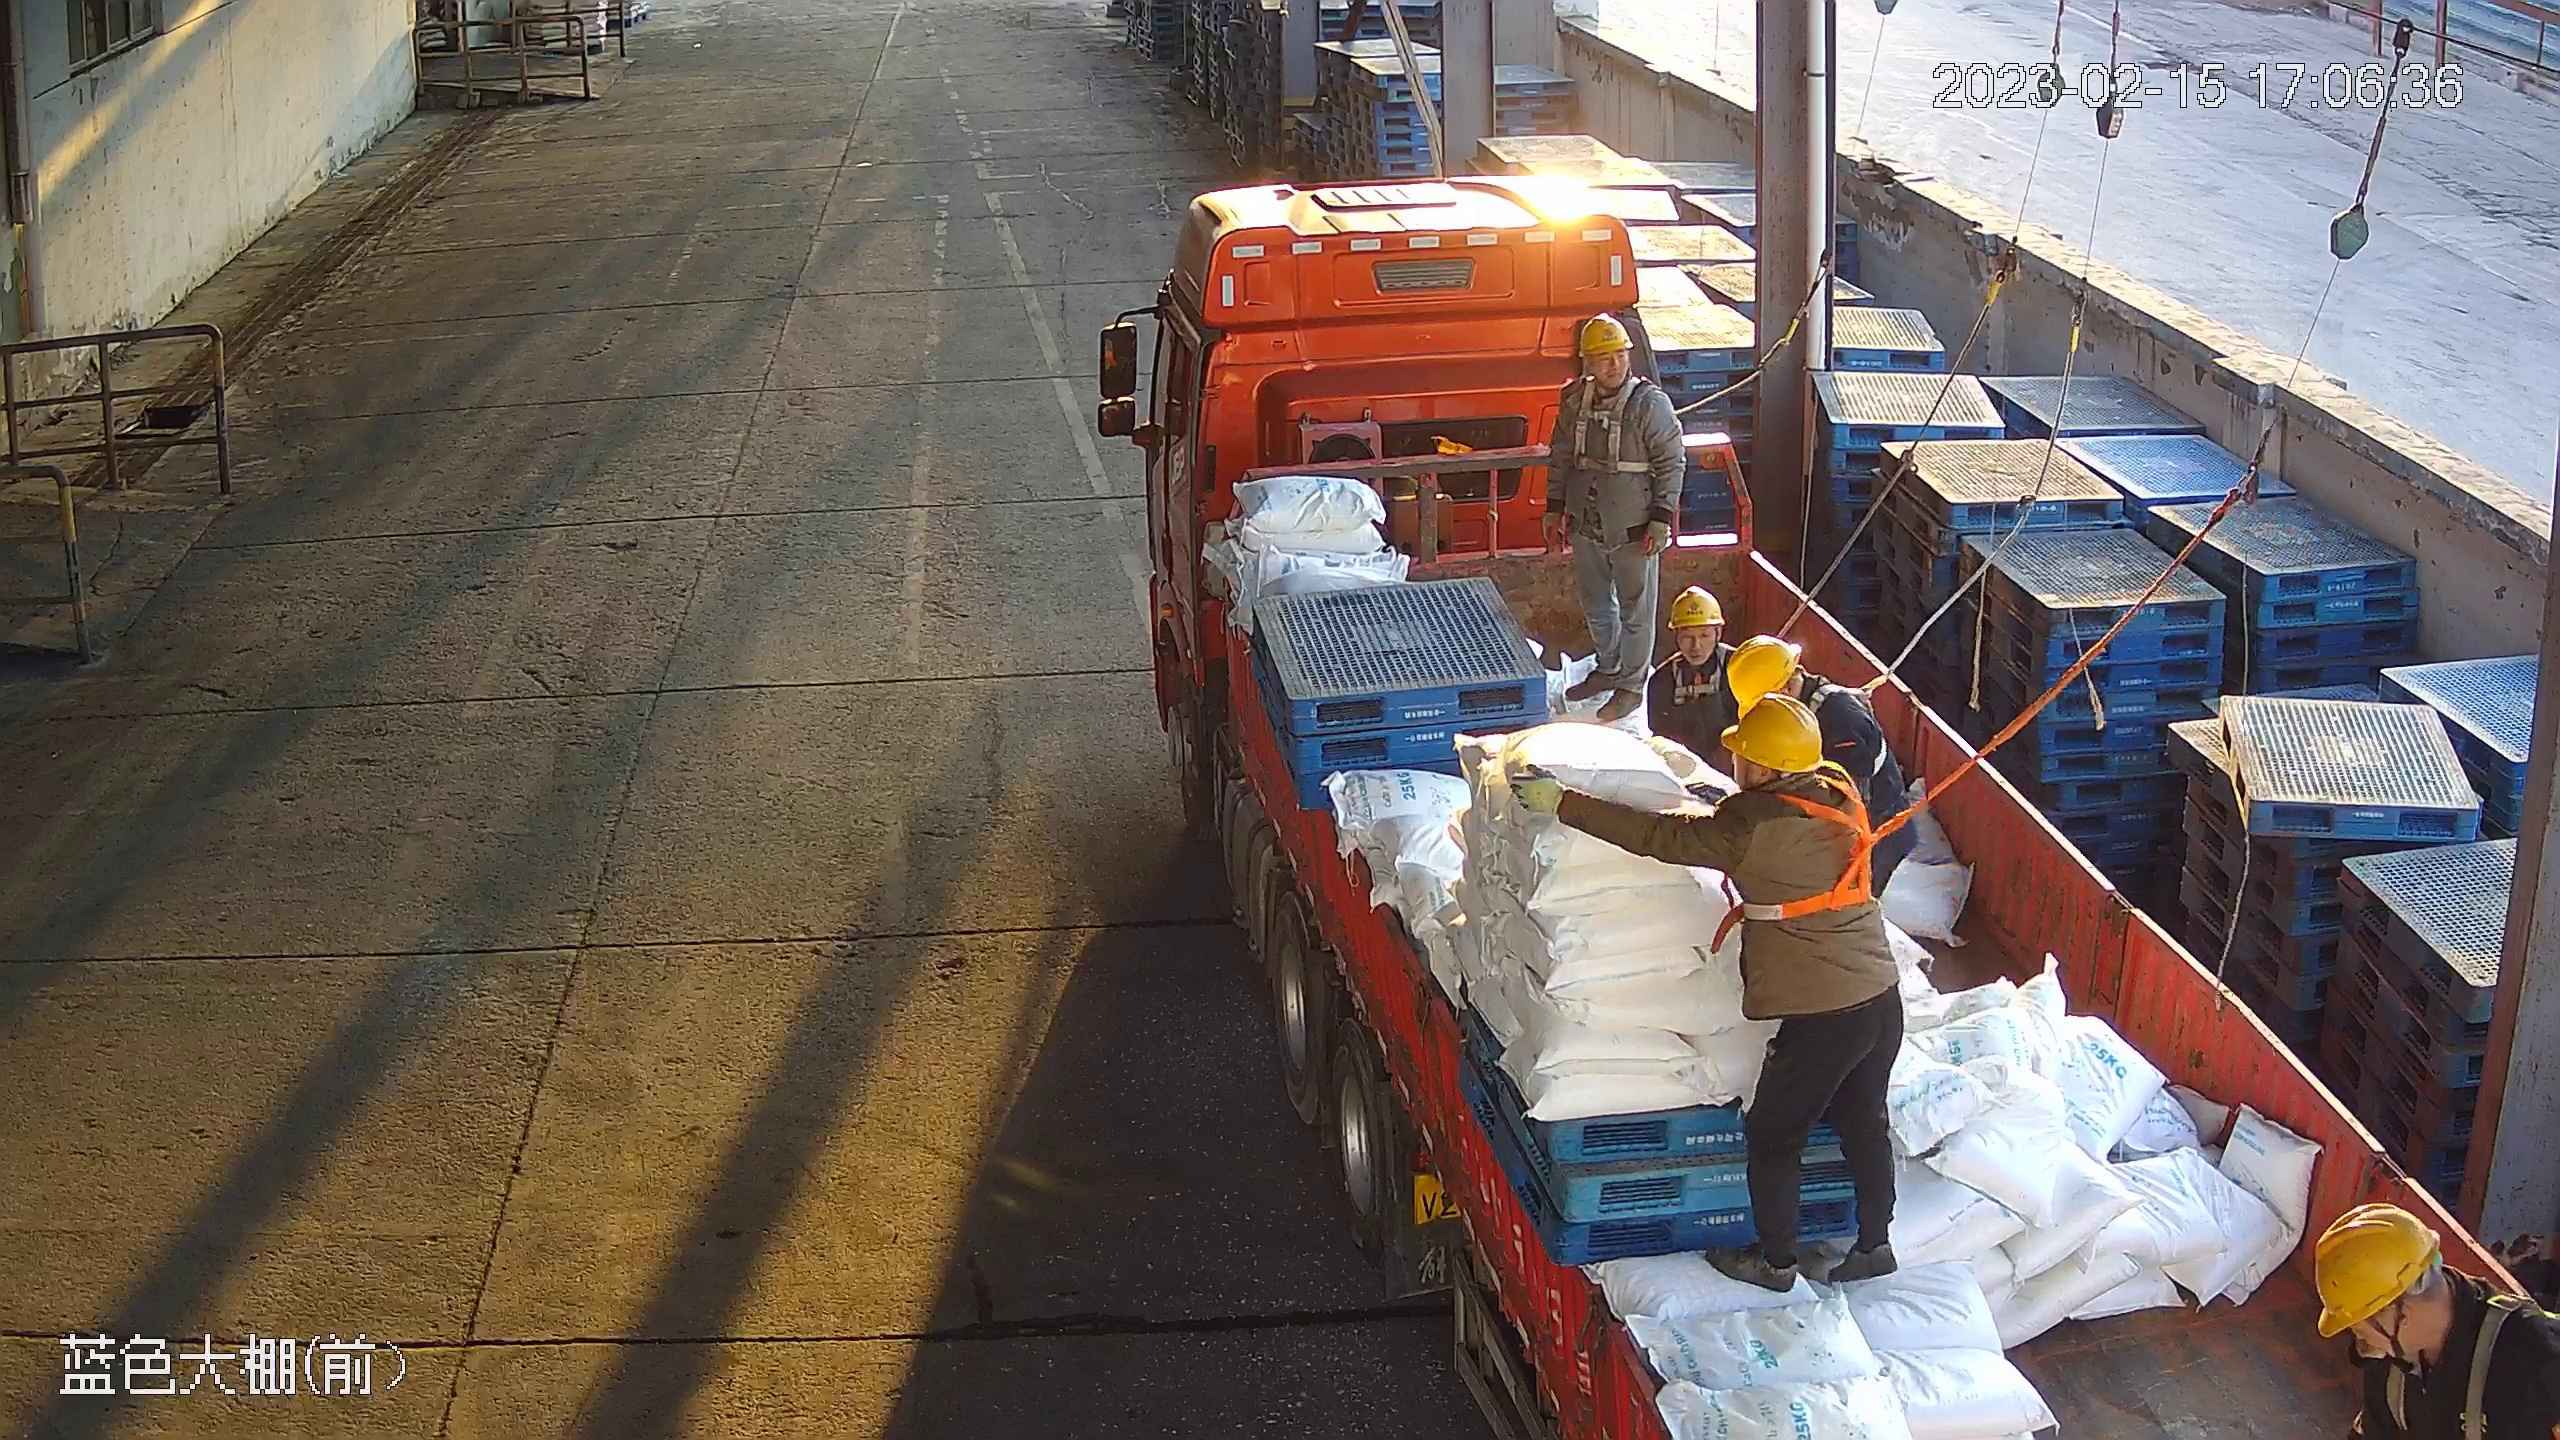belt: (1738, 782, 1919, 928), (2382, 1296, 2491, 1440), (1557, 378, 1664, 480), (1810, 667, 1899, 733), (1664, 648, 1731, 705)
head: (2308, 1196, 2557, 1431), (1659, 695, 1865, 877), (1726, 631, 1879, 758), (1560, 306, 1666, 441), (1647, 590, 1747, 710)
helmet: (2314, 1203, 2442, 1334), (1722, 695, 1827, 772), (1728, 635, 1805, 712), (1574, 310, 1634, 354), (1667, 587, 1726, 627)
people: (1509, 693, 1903, 1291), (1542, 308, 1684, 722)
truck: (1084, 171, 2560, 1440)
